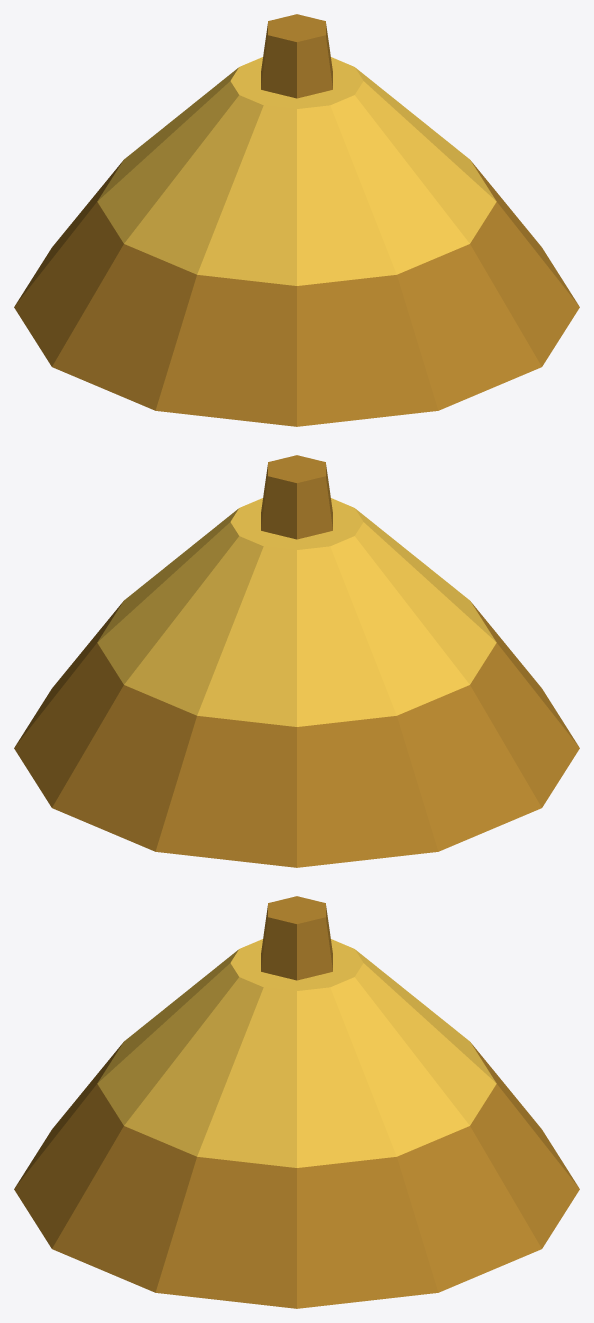
The model's file is brass.glb.
The picture shows the model from 3 angles, top to bottom: view 1: azimuth 30°, elevation 25°; view 2: azimuth 150°, elevation 25°; view 3: azimuth 270°, elevation 25°; orthographic projection.
Parts seen in each view (by area): view 1: Model; view 2: Model; view 3: Model.
Boxes of the visible parts, x1=… form: Model: x1=14, y1=14, x2=579, y2=426; Model: x1=14, y1=455, x2=579, y2=867; Model: x1=14, y1=896, x2=579, y2=1308.
Size of the model in its own units: 0.68 by 0.37 by 0.68.
Materials: 1 (1 with a texture image).
